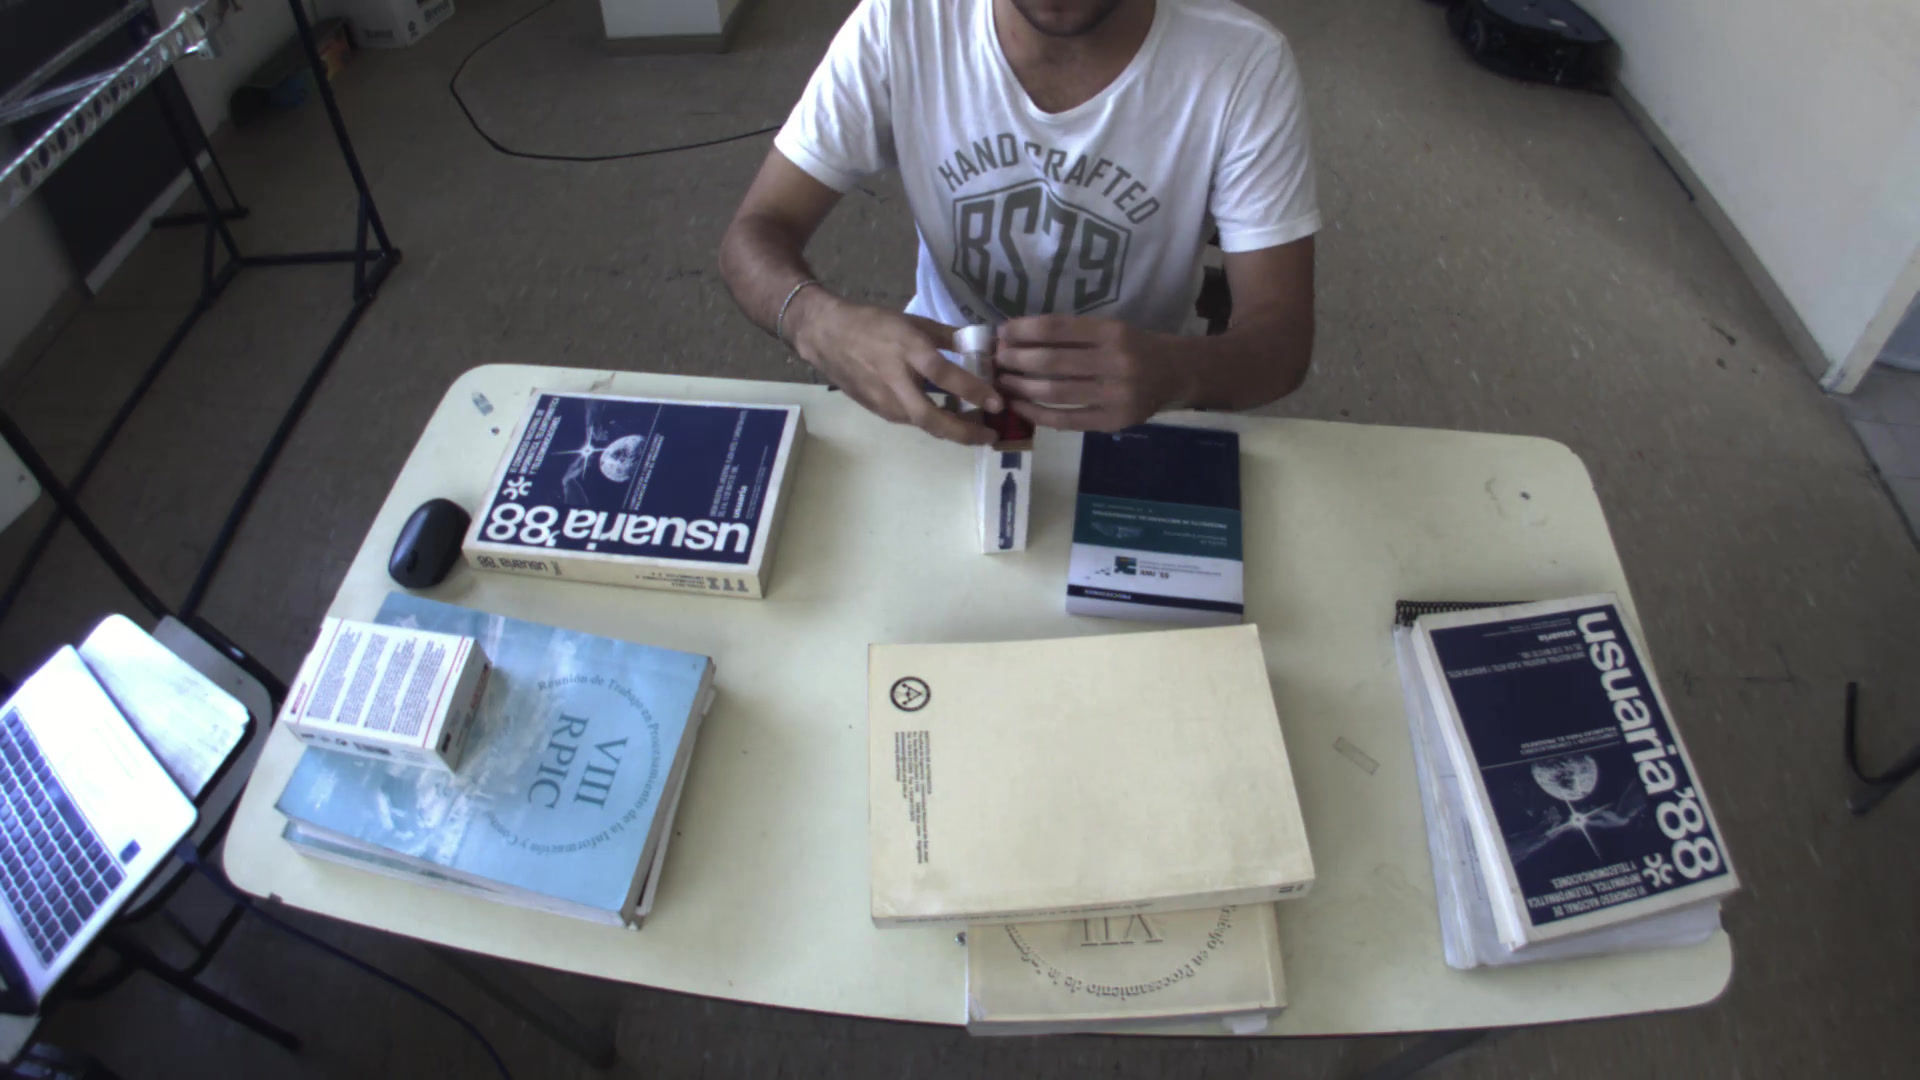hand: (789, 285, 1000, 442), (992, 291, 1182, 443)
